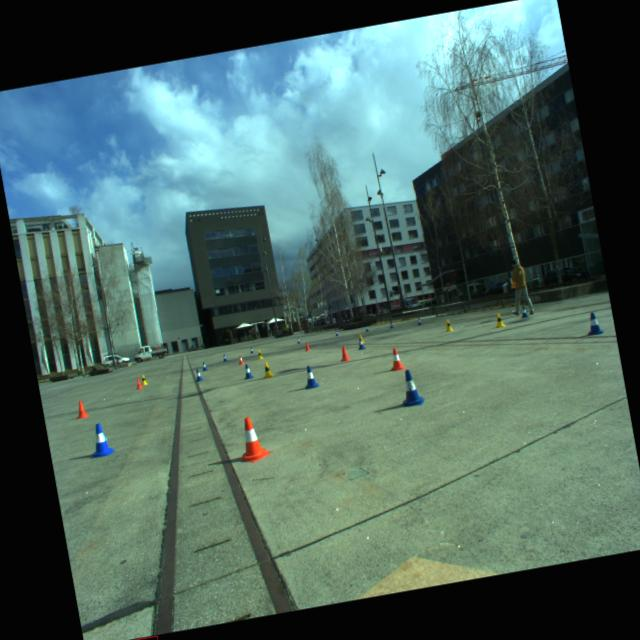blue_cone: (394, 367, 426, 408), (84, 421, 115, 458), (583, 310, 604, 336), (302, 364, 318, 389), (242, 363, 253, 379), (194, 368, 204, 381), (356, 336, 366, 349), (518, 305, 528, 318), (200, 361, 208, 371), (222, 353, 228, 361), (416, 318, 422, 326), (388, 321, 394, 328), (249, 346, 254, 354), (296, 336, 301, 344), (364, 324, 369, 332), (334, 329, 339, 336)
orange_cone: (232, 414, 272, 464), (386, 346, 406, 372), (74, 399, 89, 418), (338, 344, 350, 362), (134, 376, 143, 389), (237, 354, 244, 364), (304, 340, 310, 350)
yellow_cone: (261, 361, 274, 378), (493, 312, 506, 328), (444, 318, 454, 332), (356, 332, 366, 343), (140, 374, 148, 385), (256, 349, 264, 359)
